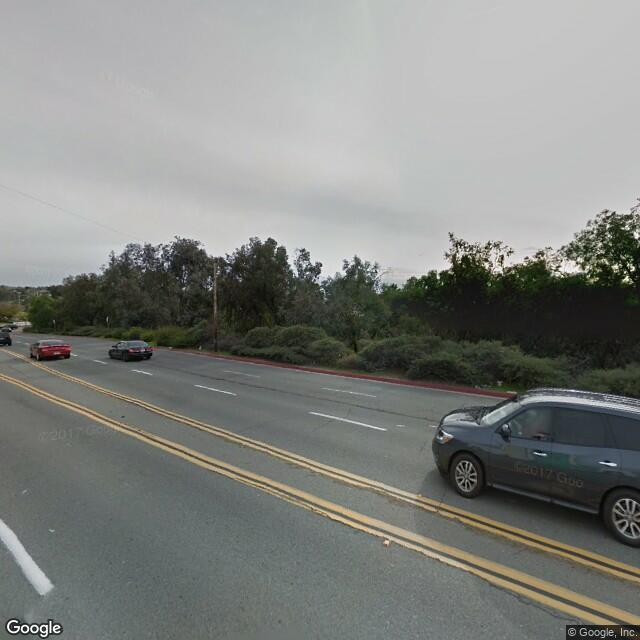litter: (496, 376, 503, 389)
